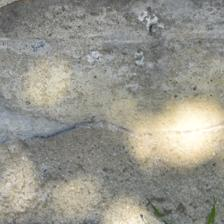Crack: (4, 58, 218, 94)
